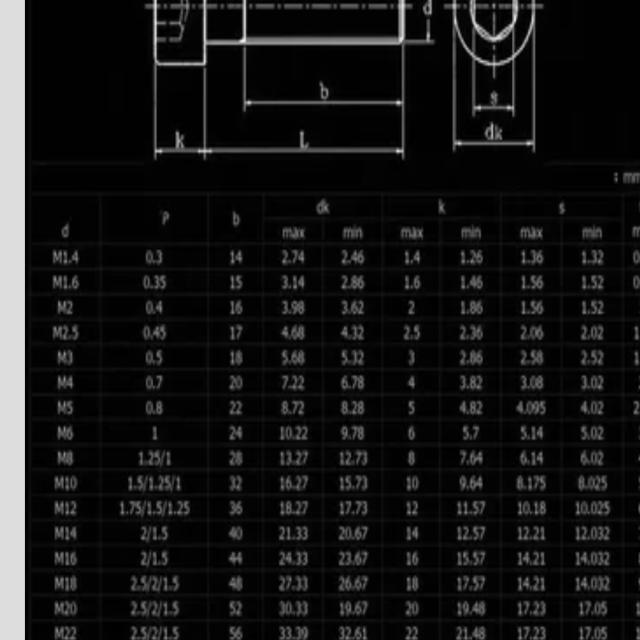marking_line: (206, 109, 410, 160), (242, 48, 407, 108), (151, 64, 208, 158), (452, 117, 535, 153), (470, 58, 517, 116)
numeric: (298, 372, 307, 393), (294, 573, 303, 594), (153, 499, 162, 519), (280, 348, 289, 368), (297, 248, 306, 267), (154, 375, 164, 392), (289, 324, 299, 341), (302, 446, 310, 467), (300, 572, 308, 593), (138, 625, 149, 640), (296, 322, 305, 340), (276, 622, 285, 640), (234, 298, 244, 314), (281, 400, 291, 416), (284, 576, 294, 592), (145, 249, 154, 266), (520, 325, 529, 342), (536, 350, 545, 367), (171, 623, 180, 640), (300, 601, 309, 618), (129, 599, 137, 618), (151, 599, 159, 618), (234, 322, 242, 341), (236, 574, 244, 593), (297, 397, 305, 416), (294, 473, 302, 492), (301, 474, 309, 493), (280, 325, 290, 340), (137, 473, 144, 494), (154, 248, 162, 266), (145, 350, 154, 366), (153, 448, 161, 466), (172, 599, 180, 617), (235, 348, 243, 366), (402, 250, 411, 266), (291, 398, 299, 416), (293, 424, 301, 442), (294, 449, 302, 467), (284, 549, 292, 567), (277, 575, 285, 593), (300, 624, 309, 640), (144, 300, 154, 314), (131, 573, 138, 593), (229, 599, 236, 619), (282, 373, 289, 393), (159, 324, 167, 341), (161, 549, 169, 566), (172, 575, 180, 592), (236, 475, 244, 492), (280, 273, 288, 290), (281, 299, 289, 316), (278, 450, 286, 467), (284, 499, 292, 516), (142, 325, 151, 340), (146, 400, 155, 415), (234, 374, 243, 389), (164, 475, 171, 494), (229, 449, 236, 468), (291, 247, 298, 266), (290, 347, 297, 366), (292, 373, 299, 392), (302, 525, 309, 544), (142, 274, 150, 290), (153, 325, 161, 341), (519, 350, 527, 366), (279, 426, 287, 442), (291, 299, 299, 315), (146, 373, 153, 391), (516, 401, 525, 415), (536, 373, 543, 391), (174, 475, 181, 493), (235, 499, 242, 517), (236, 525, 243, 543), (297, 348, 304, 366), (278, 551, 285, 569), (303, 551, 310, 569), (294, 626, 303, 640), (536, 300, 544, 315), (176, 500, 184, 515), (235, 248, 243, 263), (228, 576, 236, 591), (236, 597, 242, 617), (141, 600, 148, 617), (162, 525, 169, 542), (152, 575, 159, 592), (228, 399, 235, 416), (236, 399, 243, 416), (229, 525, 236, 542), (229, 550, 236, 567), (286, 475, 293, 492), (279, 499, 286, 516), (168, 500, 174, 519), (229, 499, 235, 518), (285, 447, 291, 466), (279, 474, 285, 493), (159, 276, 167, 290), (152, 426, 159, 442), (155, 401, 163, 415), (155, 350, 163, 364), (520, 374, 527, 390), (137, 452, 145, 466), (129, 626, 137, 640), (230, 476, 237, 492), (298, 273, 305, 289), (520, 297, 526, 315), (229, 374, 235, 392), (279, 524, 285, 542), (157, 301, 164, 316), (520, 424, 527, 439), (530, 375, 537, 390), (537, 325, 544, 340), (140, 525, 147, 540), (140, 550, 147, 565), (135, 500, 142, 515), (140, 576, 147, 591), (236, 275, 243, 290), (281, 251, 288, 266), (286, 600, 293, 615), (119, 501, 125, 518), (129, 499, 135, 516), (229, 325, 235, 342), (291, 272, 297, 289), (302, 500, 308, 517), (295, 599, 301, 616), (163, 626, 170, 640), (151, 626, 158, 640), (236, 426, 243, 440), (236, 626, 243, 640), (236, 551, 243, 565), (298, 299, 305, 313), (530, 299, 536, 315), (163, 576, 169, 592), (146, 502, 152, 518), (229, 275, 235, 291), (229, 426, 235, 442), (237, 450, 243, 466), (279, 601, 285, 617), (301, 425, 308, 438), (154, 275, 160, 290), (152, 525, 158, 540), (184, 502, 190, 517), (230, 249, 235, 267), (287, 426, 293, 441), (285, 527, 291, 542), (296, 527, 302, 542), (538, 275, 543, 292), (128, 476, 133, 493), (163, 599, 168, 616), (230, 348, 235, 365), (520, 275, 526, 289), (531, 426, 537, 440), (537, 250, 543, 264), (149, 476, 155, 490), (295, 500, 301, 514), (296, 552, 302, 566), (285, 625, 291, 639), (531, 274, 536, 290), (531, 351, 536, 367), (149, 449, 154, 465), (229, 299, 234, 315), (530, 327, 536, 340), (230, 626, 236, 639), (521, 249, 526, 264), (166, 451, 171, 466), (158, 475, 163, 490), (152, 551, 157, 565), (531, 248, 535, 265)
